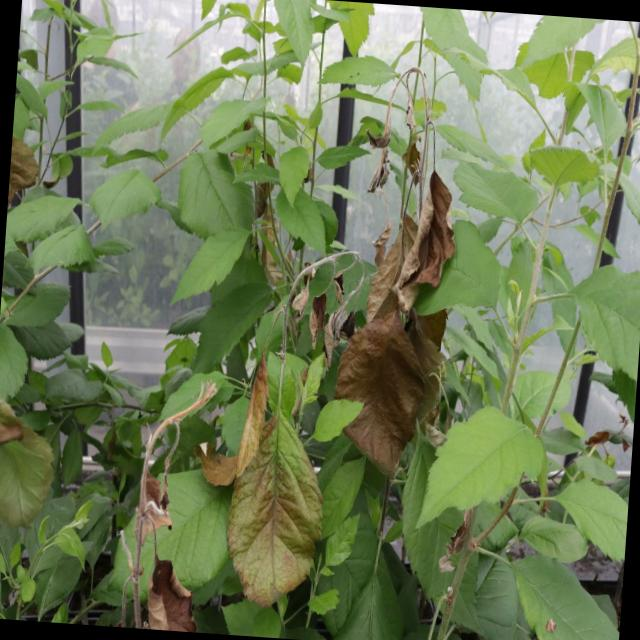-FireBlight-: (226, 77, 463, 622), (118, 361, 219, 634)
